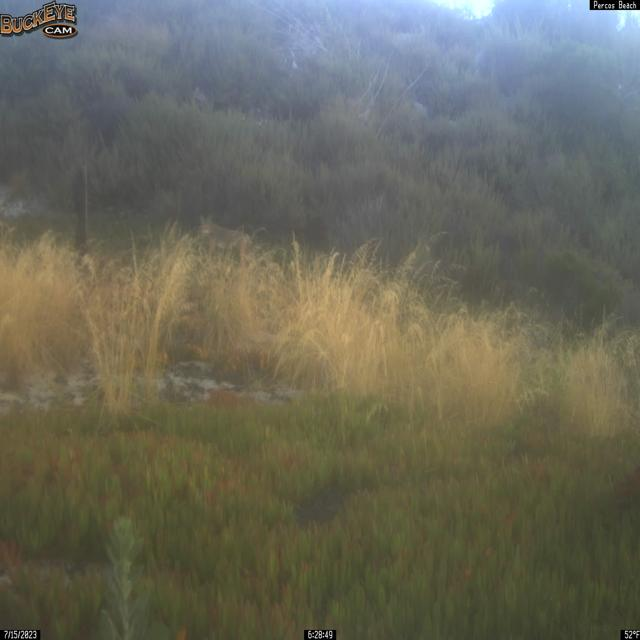coyote: (198, 214, 253, 266)
